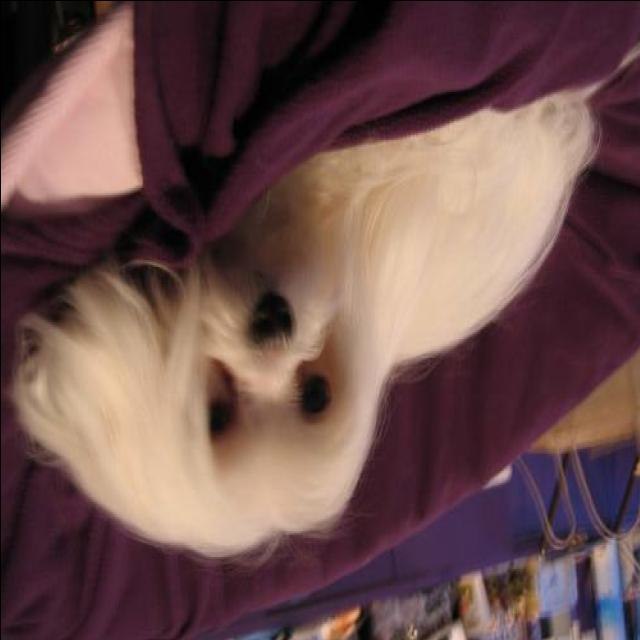maltese_dog: (9, 82, 605, 563)
